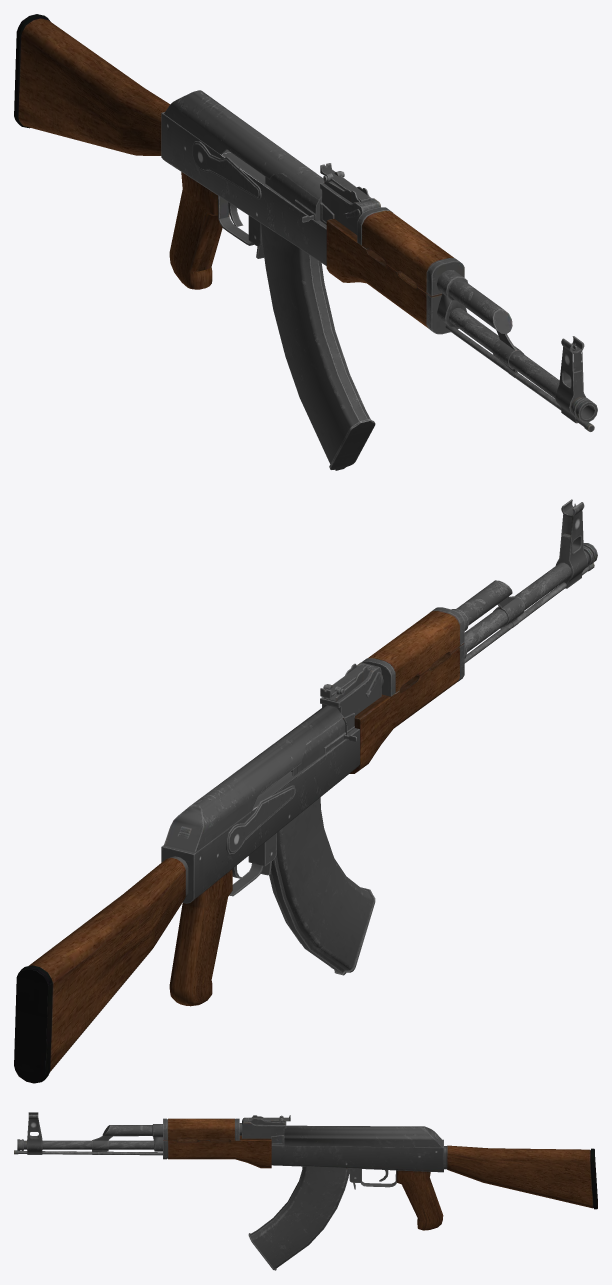
File: weapon_ak47.glb
3 renders of one model, top to bottom at view 1: azimuth 30°, elevation 25°; view 2: azimuth 150°, elevation 25°; view 3: azimuth 270°, elevation 25°, orthographic. The views are drawn at different scales.
Parts seen in each view (by area): view 1: AK_47, Magazine, Selector_Switch, Ejection_Port; view 2: AK_47, Magazine, Selector_Switch, Ejection_Port; view 3: AK_47, Magazine.
Boxes of the visible parts, <box> form: AK_47: <box>14,14,597,431</box>; Magazine: <box>261,223,375,470</box>; Selector_Switch: <box>192,141,261,199</box>; Ejection_Port: <box>265,173,318,222</box>; AK_47: <box>14,499,597,1083</box>; Magazine: <box>269,797,375,975</box>; Selector_Switch: <box>226,785,295,854</box>; Ejection_Port: <box>291,718,356,776</box>; AK_47: <box>14,1112,597,1230</box>; Magazine: <box>248,1166,349,1270</box>.
Bounding box in the file's own units: 0.0399 × 0.2582 × 0.8765.
Materials: 1 (1 with a texture image).
